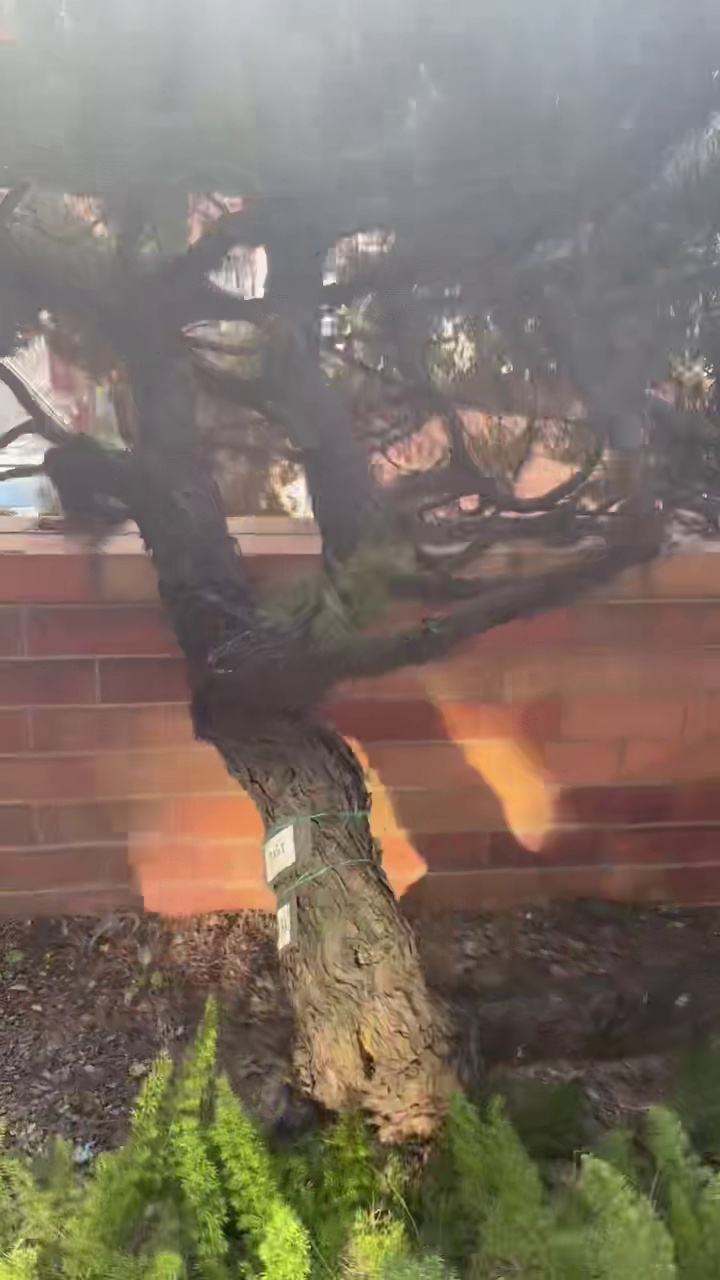Juniperus chinensis: (0, 0, 719, 1137)
